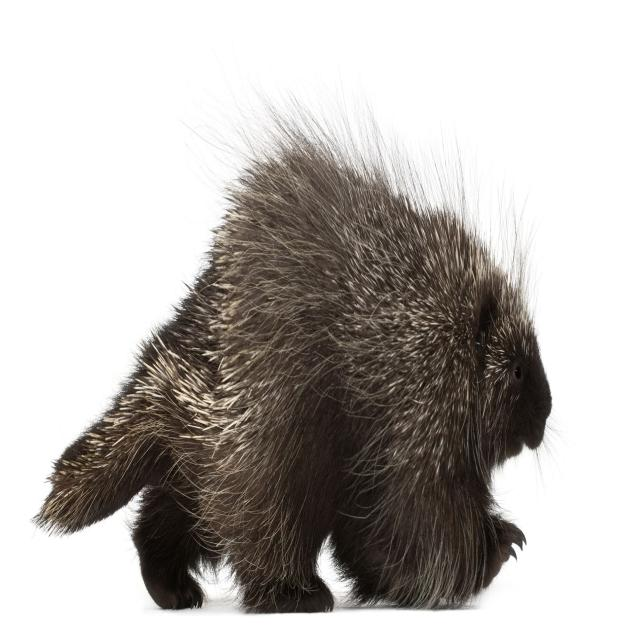Porcupine: (43, 104, 551, 624)
